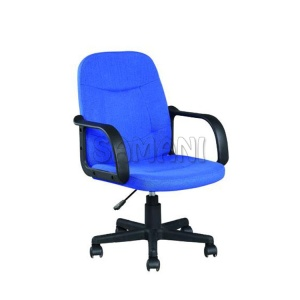chair: (73, 51, 230, 273)
